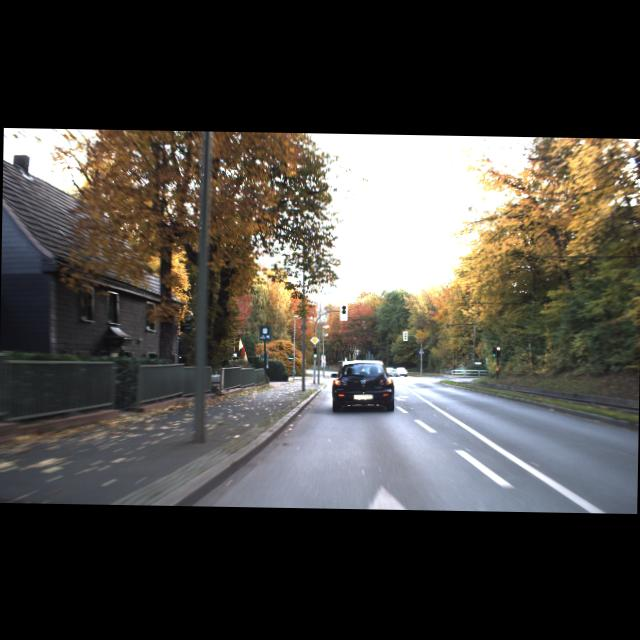other: (310, 334, 320, 344)
